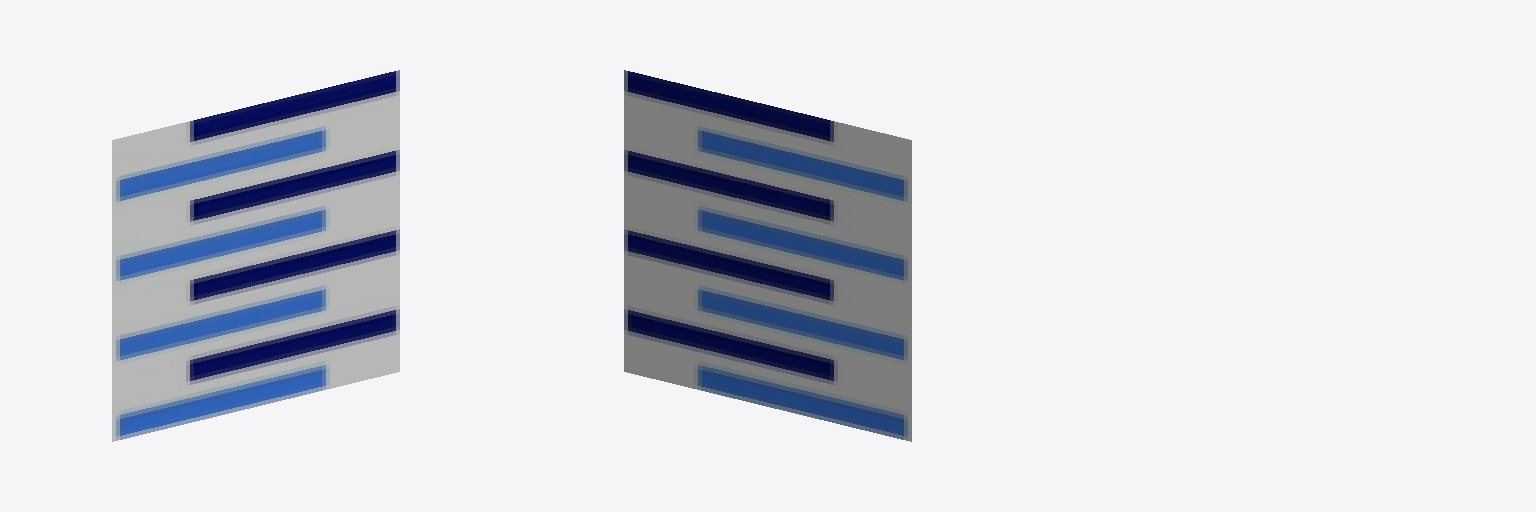
3 renders of one model, left to right at view 1: azimuth 30°, elevation 25°; view 2: azimuth 150°, elevation 25°; view 3: azimuth 270°, elevation 25°, orthographic.
Size of the model in its own units: 1 by 1 by 0.
1 materials, 1 textured.